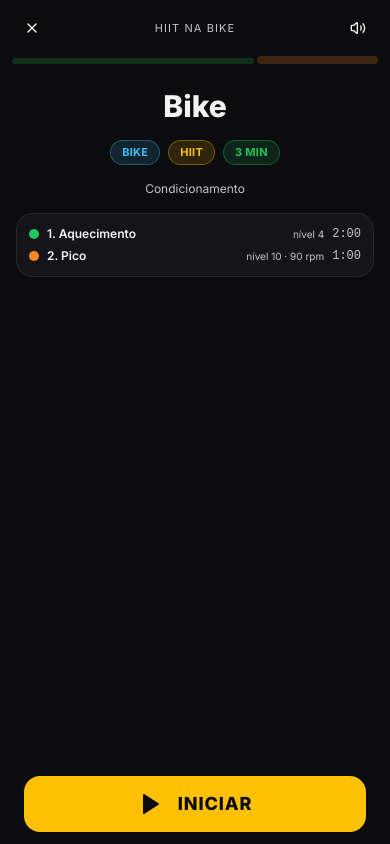
it: Execução do cardio — tela cheia › faixa de cadência só aparece na bike com cadência no bloco atual (esteira não muda)
This screenshot has width=390, height=844.
Later steps or results of the test are not shown.
Click the button "Iniciar" at (195, 804), box [24,776,366,832]
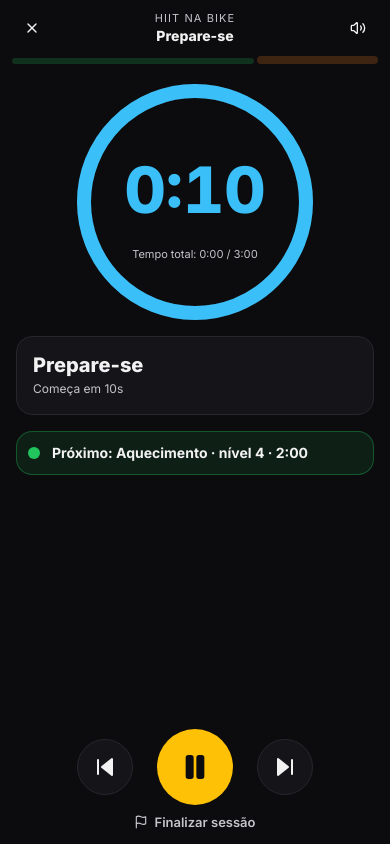
Click the button named "Próxima fase" at (285, 766), box [257,738,313,794]
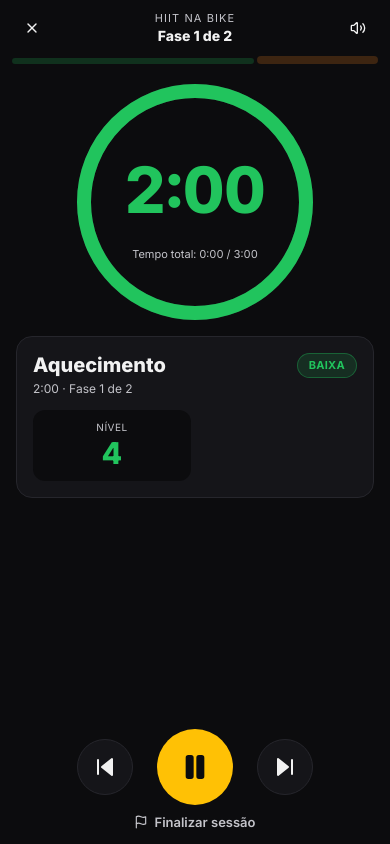
Click the button named "Próxima fase" at (285, 766), box [257,738,313,794]
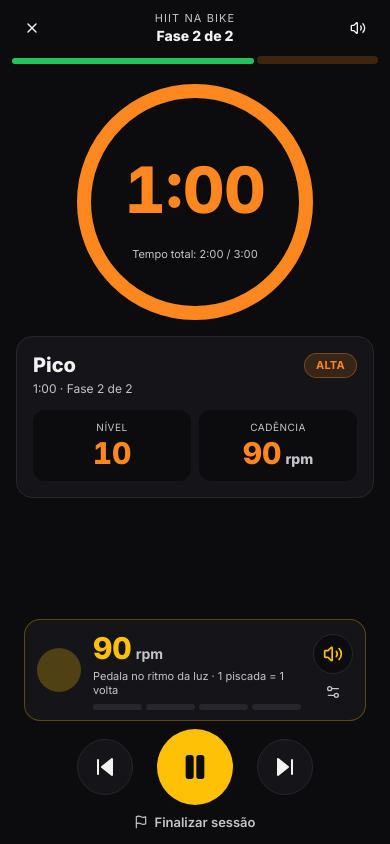
Expected: the text with test id "cadence-rpm" reads "90", [93,630,132,666]
